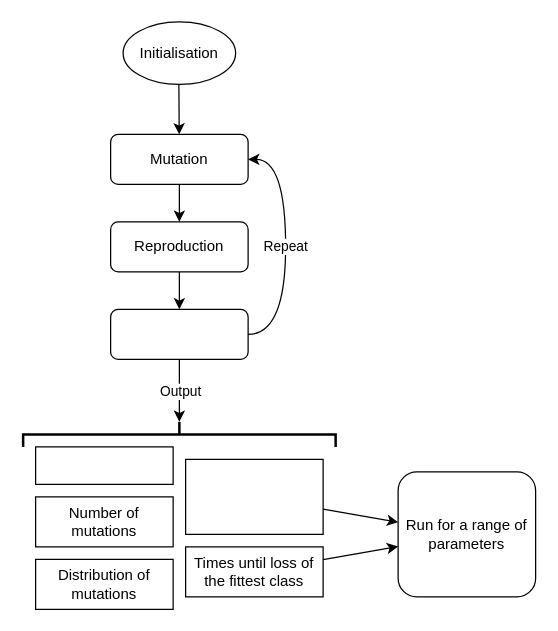
This 558x631 diagram has some shape labels left out. The centre of each missing label's shape, as x and y in pixels:
"Extinction time" belongs at point 103,465.
"Population size control" belongs at point 178,333.
"Times of pre-ratchet, ratchet and meltdown phase" belongs at point 253,496.
